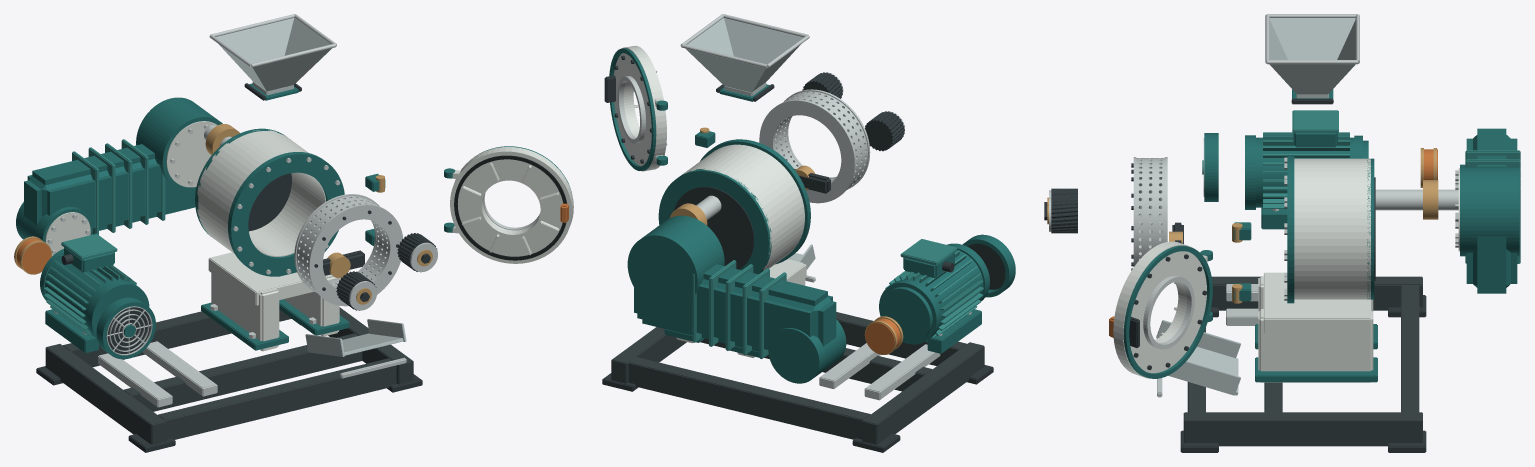
File: exploded.glb
3 renders of one model, left to right at view 1: azimuth 30°, elevation 25°; view 2: azimuth 150°, elevation 25°; view 3: azimuth 270°, elevation 25°, orthographic. The views are drawn at different scales.
Parts seen in each view (by area): view 1: frame, reduction_gearcase, compression_housing, service_cover, head_pedestal, motor, feed_hopper, ring_die, motor_fan_guard, discharge_chute, roller_left, roller_right (+3 smaller); view 2: reduction_gearcase, frame, compression_housing, motor, feed_hopper, service_cover, ring_die, motor_fan_guard, roller_left, drive_coupling, head_pedestal, shaft (+2 smaller); view 3: frame, compression_housing, head_pedestal, service_cover, reduction_gearcase, feed_hopper, motor, ring_die, discharge_chute, shaft, roller_right, motor_fan_guard (+2 smaller).
Part boxes in pixels (box(x1,y1,x2,y2)): frame: box(36, 307, 422, 452); reduction_gearcase: box(16, 97, 222, 255); compression_housing: box(195, 128, 344, 276); service_cover: box(444, 146, 573, 263); head_pedestal: box(201, 252, 349, 351); motor: box(40, 233, 149, 353); feed_hopper: box(209, 14, 336, 100); ring_die: box(294, 194, 403, 306); motor_fan_guard: box(96, 297, 155, 359); discharge_chute: box(305, 319, 406, 378); roller_left: box(336, 271, 376, 310); roller_right: box(397, 233, 437, 272); reduction_gearcase: box(627, 215, 846, 383); frame: box(602, 312, 993, 452); compression_housing: box(658, 139, 810, 274); motor: box(879, 239, 989, 353); feed_hopper: box(680, 14, 809, 101); service_cover: box(604, 45, 667, 171); ring_die: box(759, 89, 870, 203); motor_fan_guard: box(962, 234, 1015, 297); roller_left: box(865, 111, 904, 151); drive_coupling: box(864, 316, 903, 354); head_pedestal: box(664, 259, 806, 357); shaft: box(670, 195, 721, 225); frame: box(1180, 276, 1426, 452); compression_housing: box(1284, 155, 1375, 303); head_pedestal: box(1255, 272, 1377, 382); service_cover: box(1109, 241, 1212, 378); reduction_gearcase: box(1455, 128, 1520, 293); feed_hopper: box(1265, 14, 1359, 104); motor: box(1245, 110, 1368, 229); ring_die: box(1131, 157, 1167, 270); discharge_chute: box(1156, 320, 1240, 397); shaft: box(1375, 180, 1458, 219); roller_right: box(1044, 196, 1077, 233); motor_fan_guard: box(1202, 133, 1218, 201).
Bounding box in the file's own units: 3.69 × 2.63 × 3.1.
